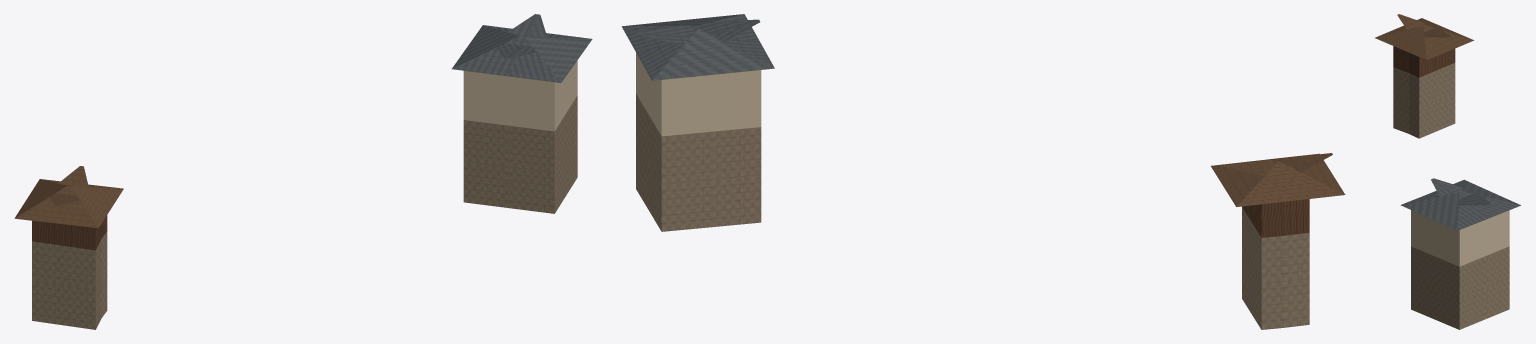
File: bld_c39_46_194.gltf
3 renders of one model, left to right at view 1: azimuth 30°, elevation 25°; view 2: azimuth 150°, elevation 25°; view 3: azimuth 270°, elevation 25°, orthographic. The views are drawn at different scales.
Visible parts, largest first — view 1: bld_c39_46_194; view 2: bld_c39_46_194; view 3: bld_c39_46_194.
Boxes of the visible parts, x1,y1,x2,y2 form: bld_c39_46_194: (14,14,592,329); bld_c39_46_194: (621,14,1345,329); bld_c39_46_194: (1375,14,1520,329).
Size of the model in its own units: 35.66 by 8.7 by 9.85.
5 materials, 5 textured.
